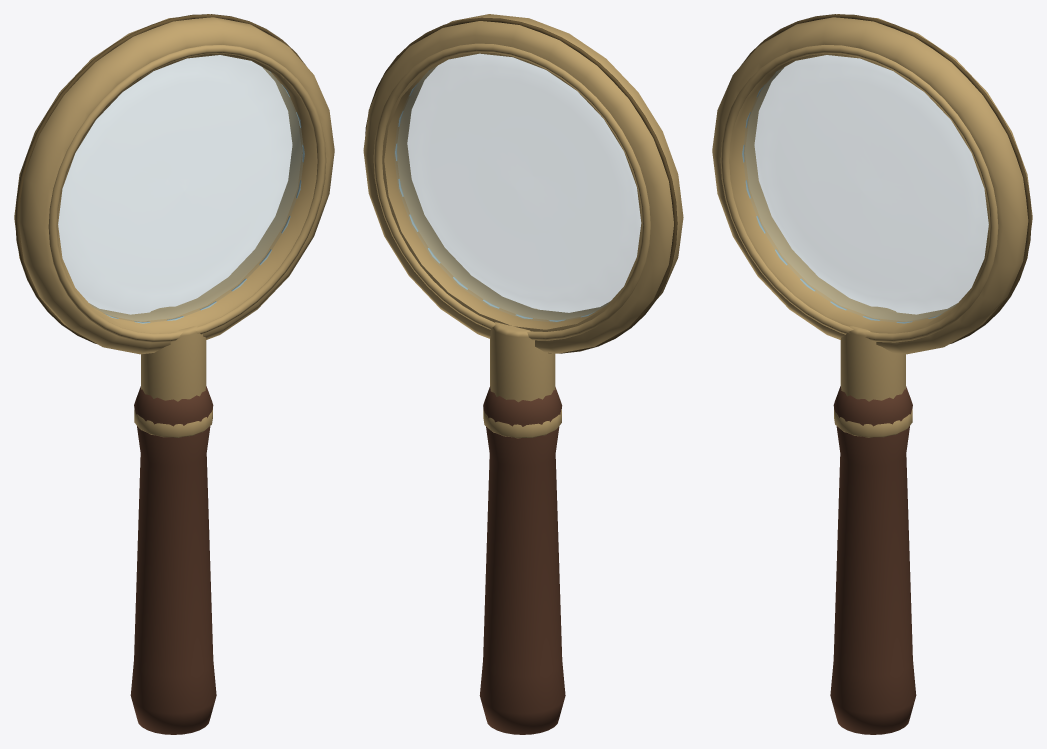
File: P011_magnifying_glass_rebuilt.glb
3 renders of one model, left to right at view 1: azimuth 30°, elevation 25°; view 2: azimuth 150°, elevation 25°; view 3: azimuth 330°, elevation 25°, orthographic.
Parts seen in each view (by area): view 1: Magnifier_lightly_frosted_glass, Magnifier_solid_brass_frame, Magnifier_turned_walnut_handle, Magnifier_rim_groove; view 2: Magnifier_lightly_frosted_glass, Magnifier_solid_brass_frame, Magnifier_turned_walnut_handle, Magnifier_rim_groove; view 3: Magnifier_lightly_frosted_glass, Magnifier_solid_brass_frame, Magnifier_turned_walnut_handle, Magnifier_rim_groove.
Boxes of the visible parts, x1=… form: Magnifier_lightly_frosted_glass: x1=58, y1=55, x2=303, y2=322; Magnifier_solid_brass_frame: x1=14, y1=14, x2=334, y2=437; Magnifier_turned_walnut_handle: x1=130, y1=386, x2=216, y2=734; Magnifier_rim_groove: x1=15, y1=14, x2=305, y2=343; Magnifier_lightly_frosted_glass: x1=394, y1=54, x2=640, y2=321; Magnifier_solid_brass_frame: x1=363, y1=14, x2=683, y2=438; Magnifier_turned_walnut_handle: x1=479, y1=386, x2=565, y2=734; Magnifier_rim_groove: x1=365, y1=17, x2=677, y2=353; Magnifier_lightly_frosted_glass: x1=743, y1=55, x2=988, y2=322; Magnifier_solid_brass_frame: x1=712, y1=14, x2=1032, y2=437; Magnifier_turned_walnut_handle: x1=830, y1=386, x2=916, y2=734; Magnifier_rim_groove: x1=741, y1=14, x2=1031, y2=343.
Size of the model in its own units: 0.1092 by 0.2336 by 0.026.
